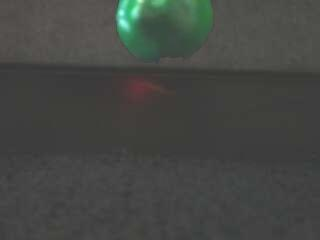Lime: (111, 0, 218, 64)
